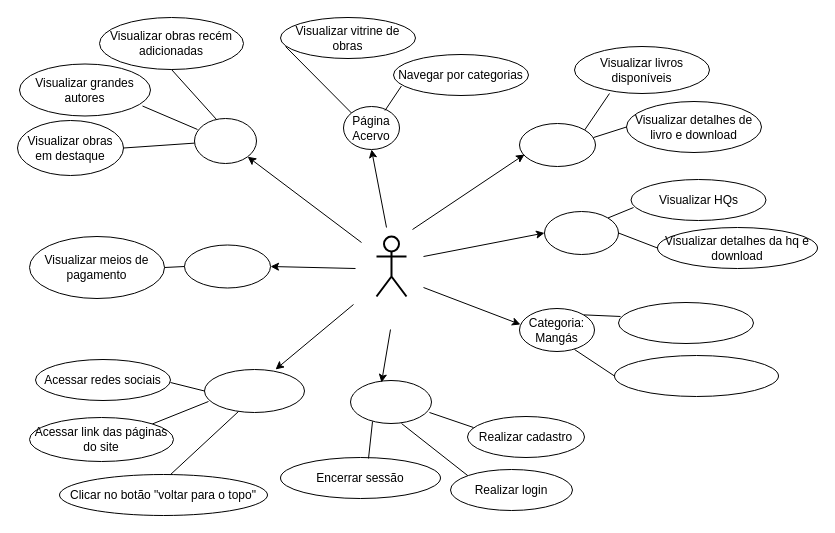
Some shapes in this 835 by 533 pixel diagram are drawn without their labels. The shapes that lost their labels are listed below. From the top down, each one's centre as x and y in pixels, then its label:
the point at 225,141: Página Home
the point at 557,144: Categoria: Livros
the point at 581,232: Categoria: HQs
the point at 227,266: Página Contribuição
the point at 391,266: Usuário
the point at 686,323: Visualizar mangás
the point at 254,390: Visualizar Rodapé (footer)
the point at 696,375: Visualizar detalhes do mangá e download
the point at 391,402: Autenticações
